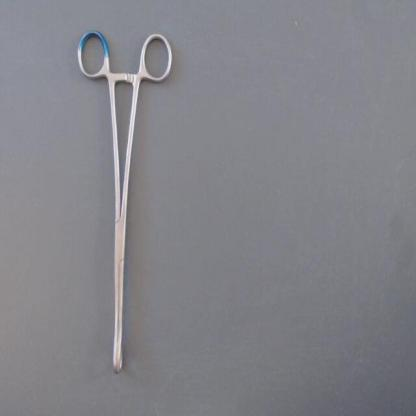Sponge Forceps: (68, 24, 180, 382)
